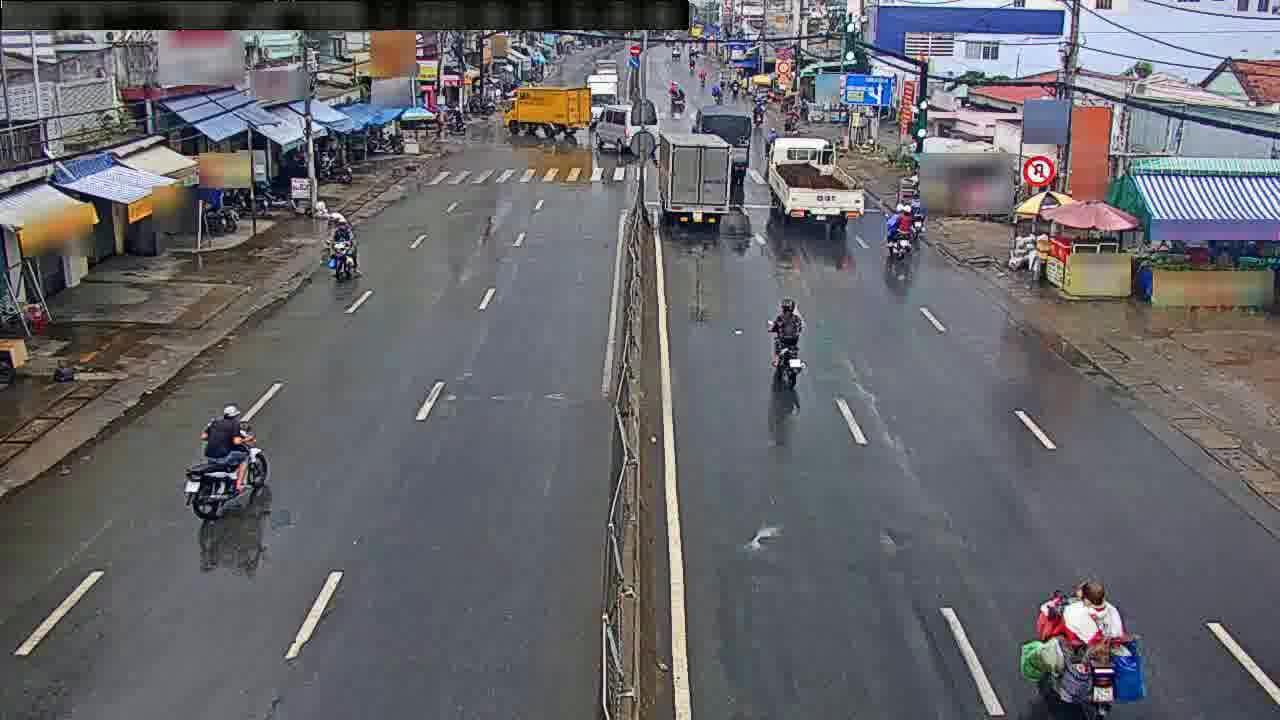14: (590, 102, 649, 152)
8: (650, 129, 740, 239), (765, 135, 866, 229), (501, 83, 596, 140)
motorbike: (1021, 577, 1145, 713), (190, 406, 276, 522), (771, 288, 803, 400), (323, 215, 357, 289), (882, 200, 915, 259)
